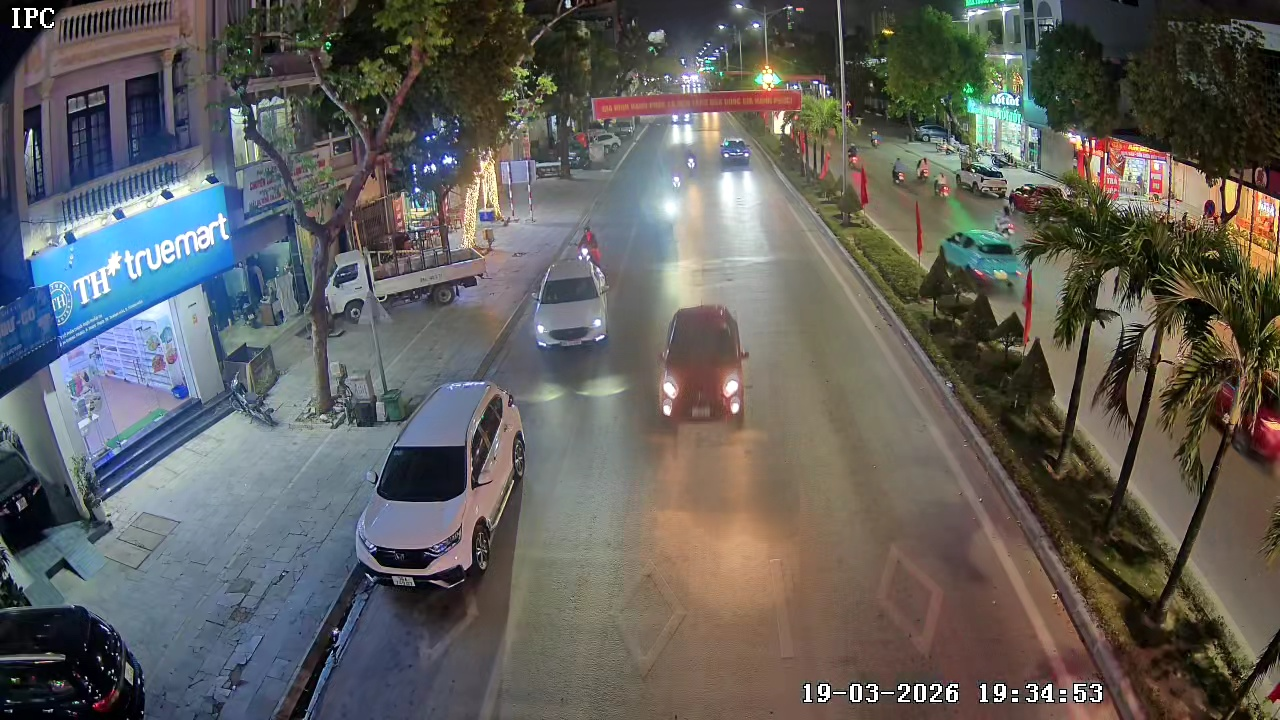car: (354, 379, 529, 591), (0, 603, 150, 719), (655, 302, 751, 427), (530, 255, 610, 353), (940, 227, 1031, 292), (719, 137, 751, 169)
